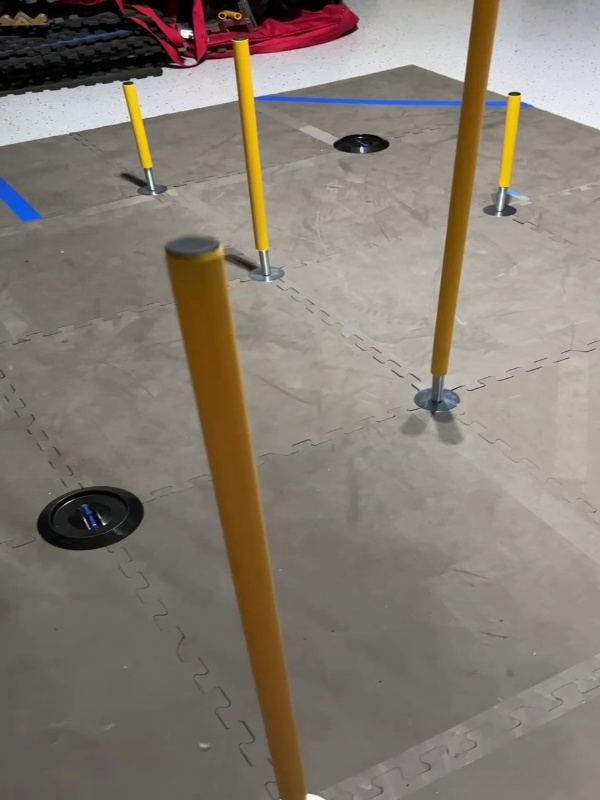top: (160, 231, 225, 265)
